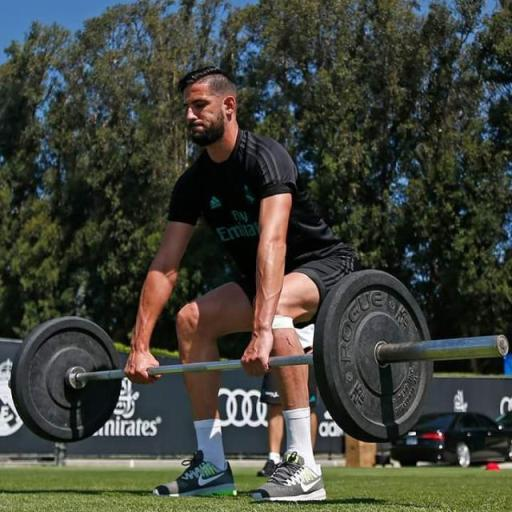Emirates: (92, 376, 164, 438)
